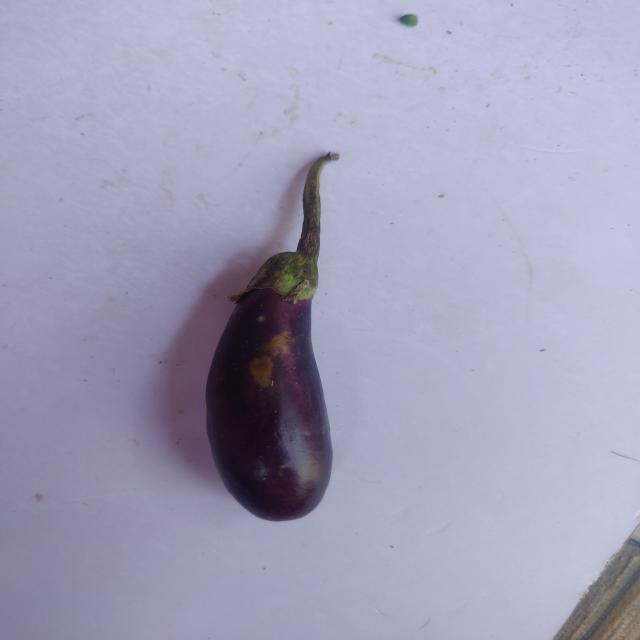Brinjal: (200, 136, 354, 538)
